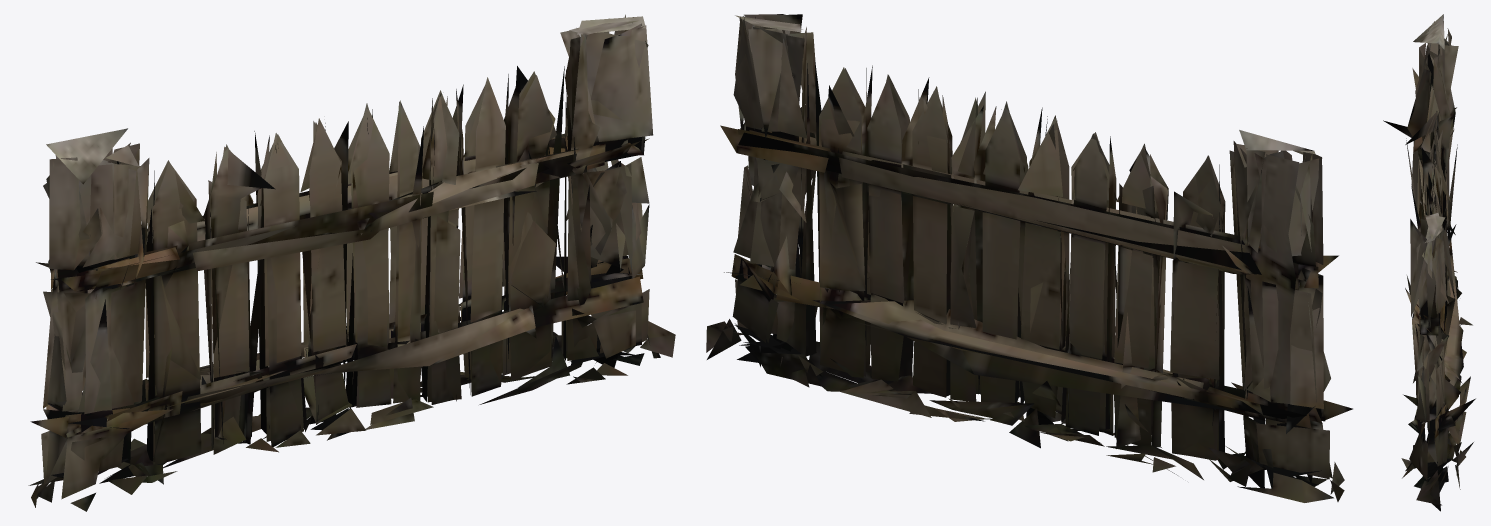
File: goblin_palisade_c_lod.glb
3 views of the same model, side by side, from view 1: azimuth 30°, elevation 25°; view 2: azimuth 150°, elevation 25°; view 3: azimuth 270°, elevation 25° (orthographic). The views are drawn at different scales.
Parts seen in each view (by area): view 1: goblin_palisade_c; view 2: goblin_palisade_c; view 3: goblin_palisade_c.
Boxes of the visible parts, <box> form: goblin_palisade_c: <box>28,14,675,511</box>; goblin_palisade_c: <box>706,14,1352,502</box>; goblin_palisade_c: <box>1383,14,1475,511</box>.
Bounding box in the file's own units: 5.03 × 2.66 × 0.8311.
1 material, 1 textured.
